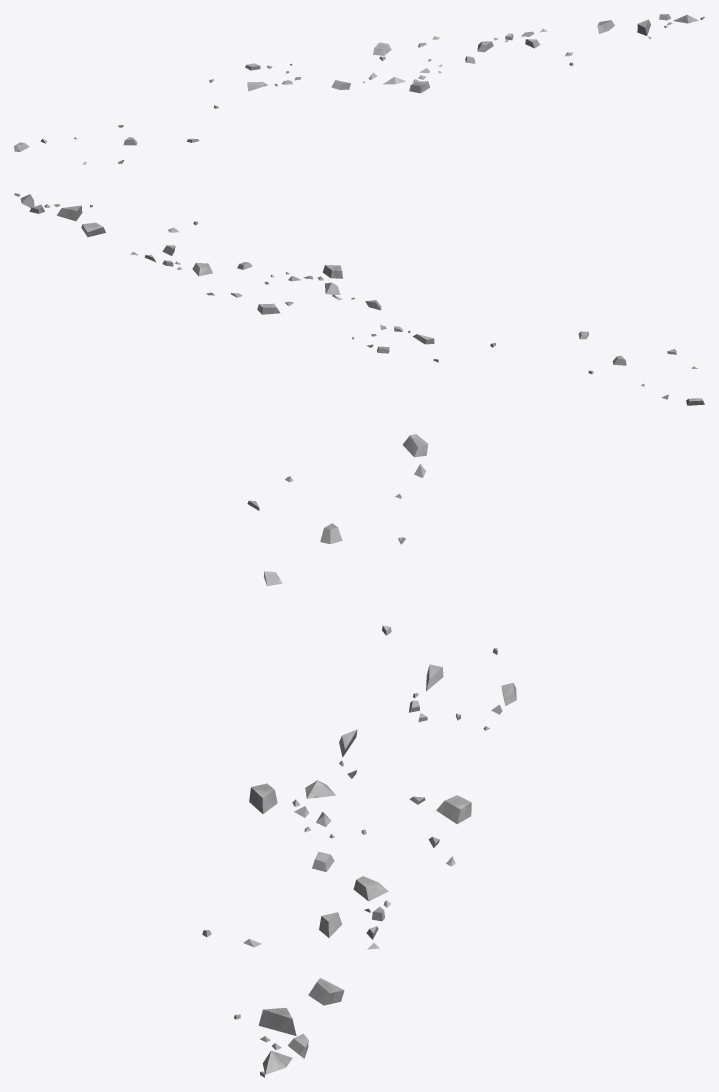
The model's file is sculpted_pebbles_03.glb.
3 views of the same model, one above another, from view 1: azimuth 30°, elevation 25°; view 2: azimuth 150°, elevation 25°; view 3: azimuth 270°, elevation 25° (orthographic). The views are drawn at different scales.
Visible parts, largest first — view 1: sculpted_pebbles_03; view 2: sculpted_pebbles_03; view 3: sculpted_pebbles_03.
Part boxes in pixels (bbox=[...]): sculpted_pebbles_03: bbox=[14, 14, 704, 164]; sculpted_pebbles_03: bbox=[14, 193, 704, 405]; sculpted_pebbles_03: bbox=[202, 434, 516, 1077].
Size of the model in its own units: 3.73 by 0.0551 by 0.7781.
1 material, 1 textured.
